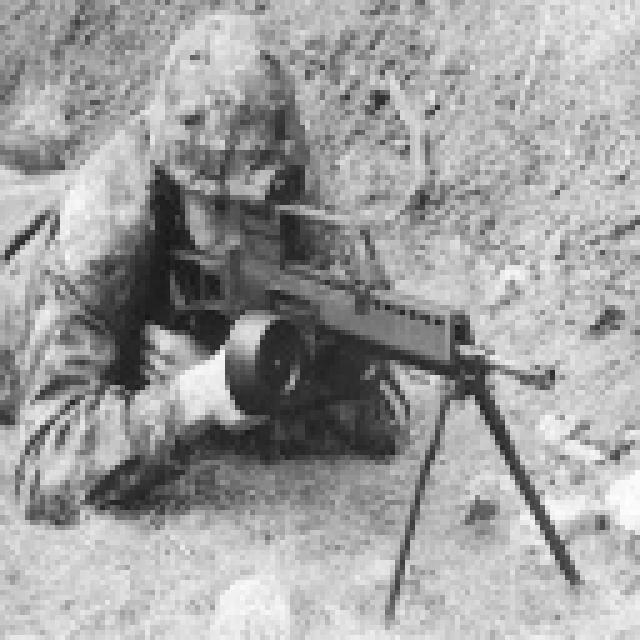Rifle: (139, 171, 640, 635)
